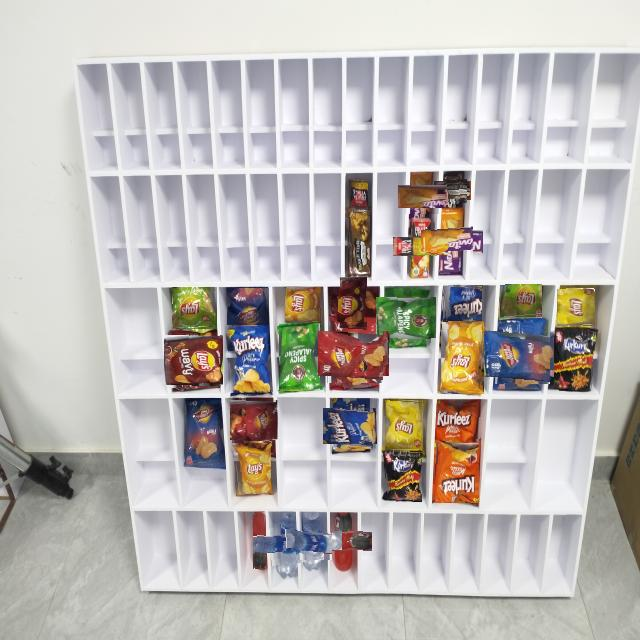Plastic: (491, 324, 550, 384), (325, 324, 383, 383), (441, 321, 484, 394), (166, 333, 220, 388), (278, 322, 320, 391), (228, 328, 270, 393), (435, 441, 479, 503), (380, 292, 431, 343), (184, 398, 221, 467), (554, 328, 593, 391), (328, 403, 373, 449), (383, 399, 423, 449), (232, 398, 276, 443), (384, 450, 422, 502), (172, 288, 217, 330), (234, 445, 271, 494), (431, 220, 473, 263), (267, 523, 309, 566), (437, 401, 481, 442), (334, 282, 373, 322), (227, 288, 269, 325), (347, 210, 370, 277), (294, 520, 332, 560), (324, 523, 363, 561), (442, 285, 482, 322), (499, 284, 542, 318), (402, 227, 440, 265), (557, 288, 594, 327), (285, 287, 322, 324), (404, 178, 440, 214), (439, 176, 467, 205), (253, 512, 266, 569), (348, 180, 368, 210)
